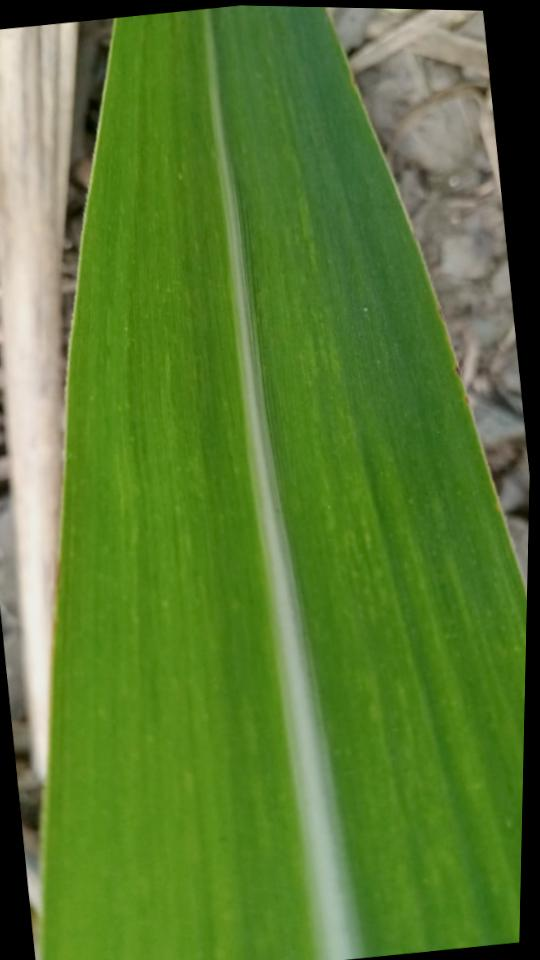Healthy: (44, 6, 527, 960)
